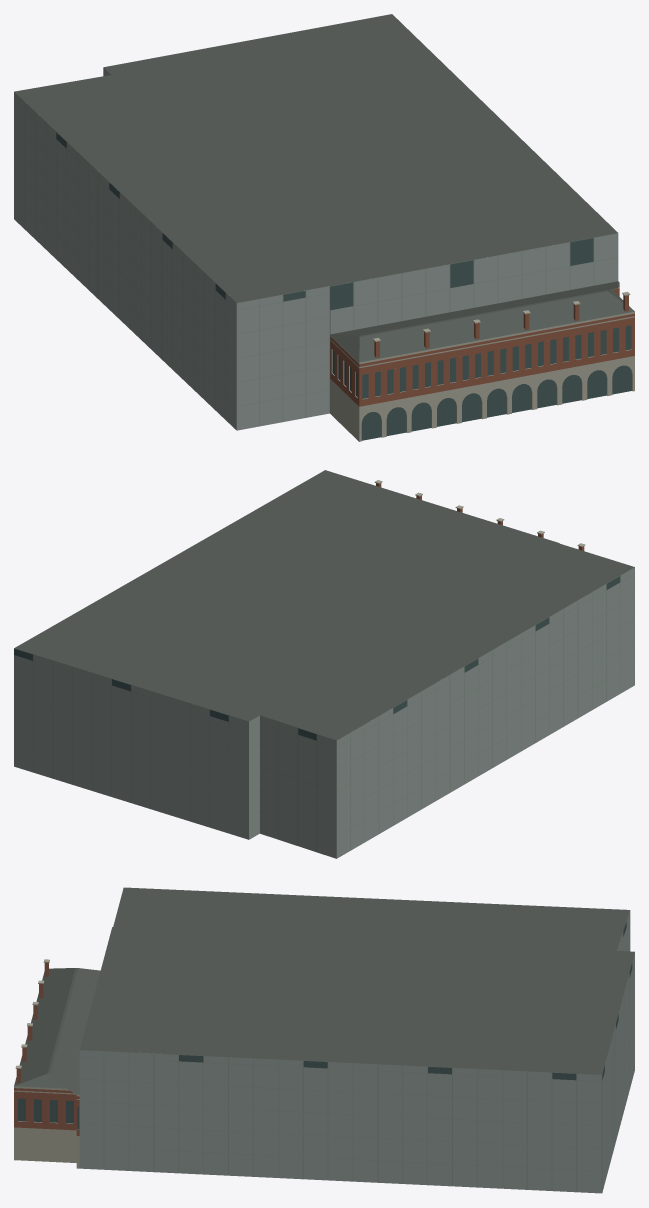
The model's file is 3arena-dublin-far.glb.
3 views of the same model, one above another, from view 1: azimuth 30°, elevation 25°; view 2: azimuth 150°, elevation 25°; view 3: azimuth 270°, elevation 25° (orthographic). The views are drawn at different scales.
Visible parts, largest first — view 1: 3arena-dublin-0-roof, 3arena-dublin-0-metal, 3arena-dublin-0-glass, 3arena-dublin-0-brick, 3arena-dublin-0-stone, 3arena-dublin-0-frame; view 2: 3arena-dublin-0-roof, 3arena-dublin-0-metal, 3arena-dublin-0-frame, 3arena-dublin-0-glass; view 3: 3arena-dublin-0-roof, 3arena-dublin-0-metal, 3arena-dublin-0-frame, 3arena-dublin-0-stone, 3arena-dublin-0-brick, 3arena-dublin-0-glass.
Boxes of the visible parts, left/top/right/bottom form: 3arena-dublin-0-roof: left=14, top=14, right=634, bottom=362; 3arena-dublin-0-metal: left=14, top=68, right=617, bottom=430; 3arena-dublin-0-glass: left=56, top=132, right=631, bottom=440; 3arena-dublin-0-brick: left=330, top=284, right=634, bottom=406; 3arena-dublin-0-stone: left=330, top=283, right=634, bottom=441; 3arena-dublin-0-frame: left=14, top=67, right=618, bottom=429; 3arena-dublin-0-roof: left=14, top=470, right=634, bottom=740; 3arena-dublin-0-metal: left=14, top=568, right=634, bottom=858; 3arena-dublin-0-frame: left=14, top=567, right=634, bottom=858; 3arena-dublin-0-glass: left=14, top=576, right=620, bottom=740; 3arena-dublin-0-roof: left=14, top=887, right=634, bottom=1094; 3arena-dublin-0-metal: left=79, top=911, right=634, bottom=1193; 3arena-dublin-0-frame: left=80, top=910, right=630, bottom=1193; 3arena-dublin-0-stone: left=14, top=959, right=79, bottom=1168; 3arena-dublin-0-brick: left=14, top=962, right=79, bottom=1135; 3arena-dublin-0-glass: left=18, top=922, right=632, bottom=1129.
Size of the model in its own units: 89.65 by 26.5 by 126.
